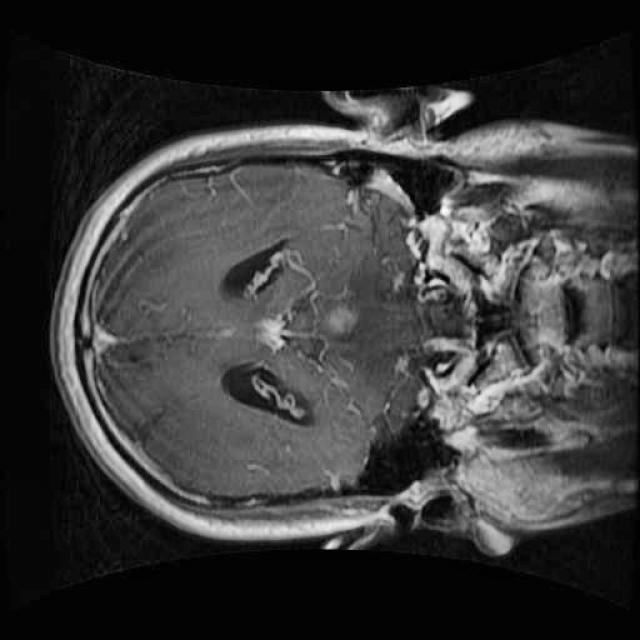Non-Tumor: (304, 281, 390, 366)
